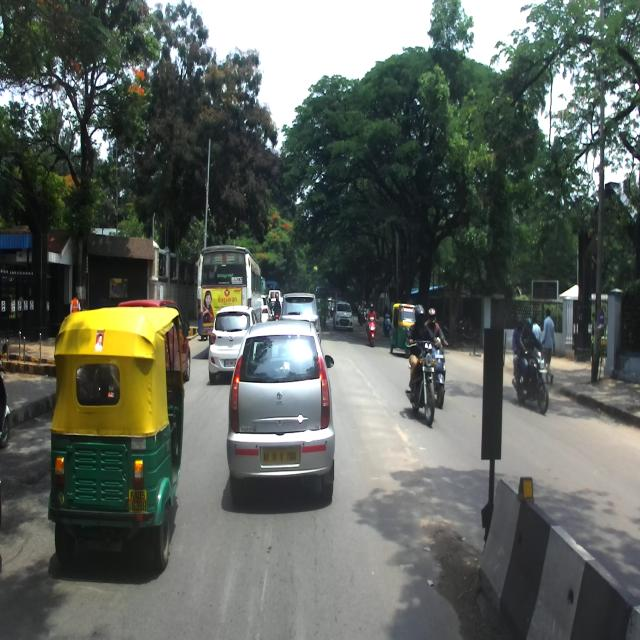auto ahead at: (50, 299, 185, 564)
car ahead at: (232, 321, 337, 495)
motorcycle ahead at: (407, 339, 440, 430)
